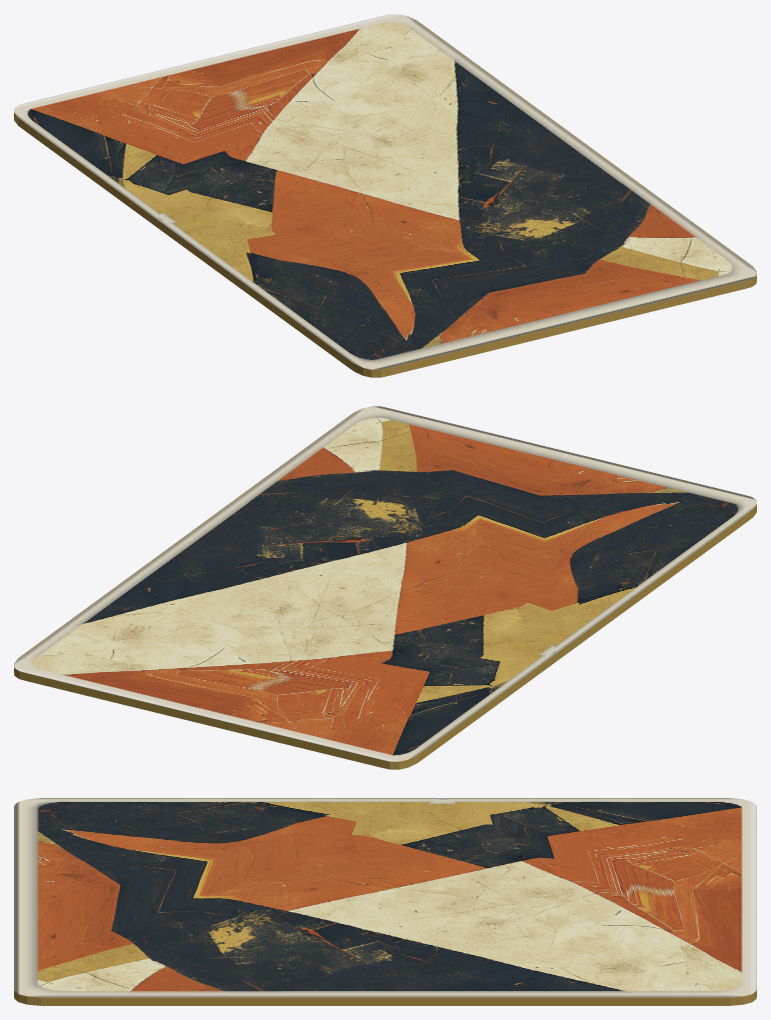
File: PlunderCard.fbx
3 views of the same model, one above another, from view 1: azimuth 30°, elevation 25°; view 2: azimuth 150°, elevation 25°; view 3: azimuth 270°, elevation 25° (orthographic). The views are drawn at different scales.
Visible parts, largest first — view 1: DeathCard; view 2: DeathCard; view 3: DeathCard.
Part boxes in pixels (x1,y1,x2,y2): DeathCard: (14, 14, 756, 377); DeathCard: (14, 406, 756, 769); DeathCard: (14, 798, 756, 1005).
Size of the model in its own units: 317 by 6.06 by 498.
1 material, 1 textured.
